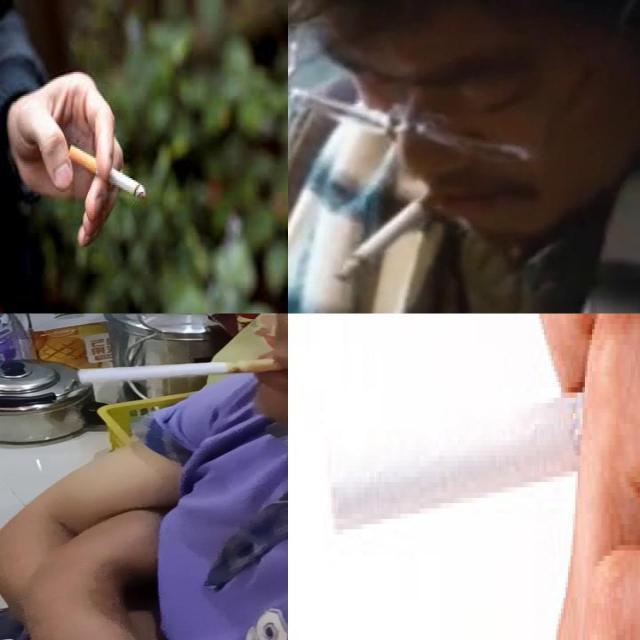smoking: (330, 366, 640, 536), (330, 193, 436, 283), (76, 356, 288, 386), (68, 144, 146, 200)
